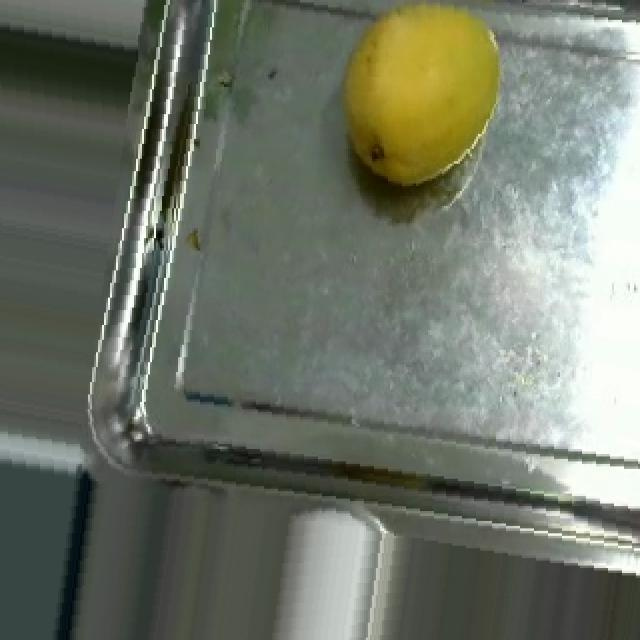fruit: (322, 0, 516, 208)
